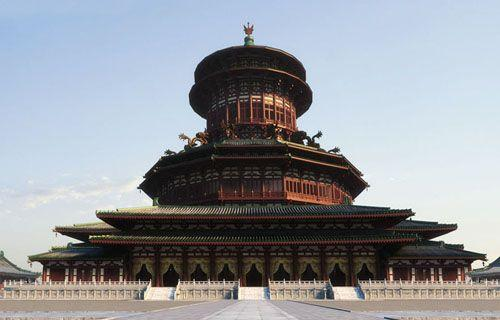buildings: (139, 52, 381, 222)
